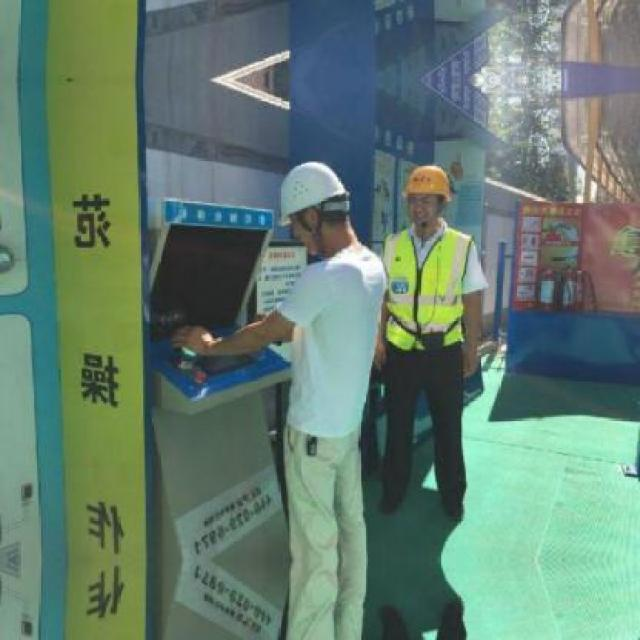Reflective-Jacket: (370, 222, 488, 371)
Safety-Helmet: (262, 154, 362, 231), (396, 157, 464, 208)
